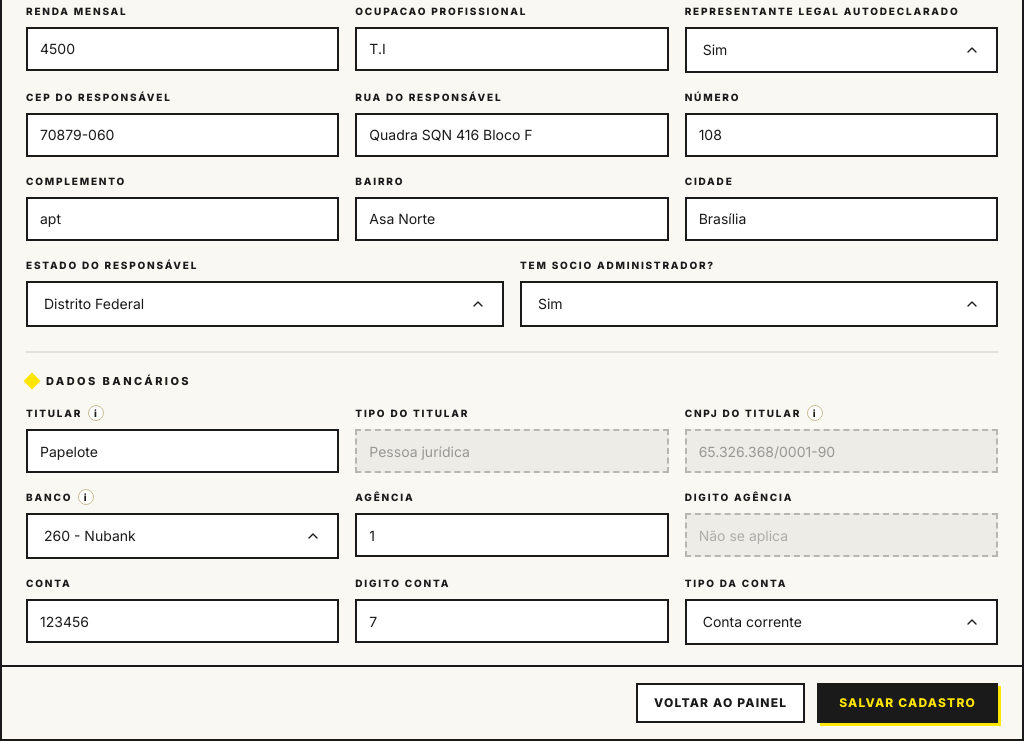
Test: VendorPendingRegistrationModalHost — salvamento › trava os dois botões enquanto grava e recarrega a casca antes de navegar
(page scrolled)
Click the button "Salvar cadastro" at (908, 703), box top-left (817, 683), bottom-right (998, 723)
(page scrolled)
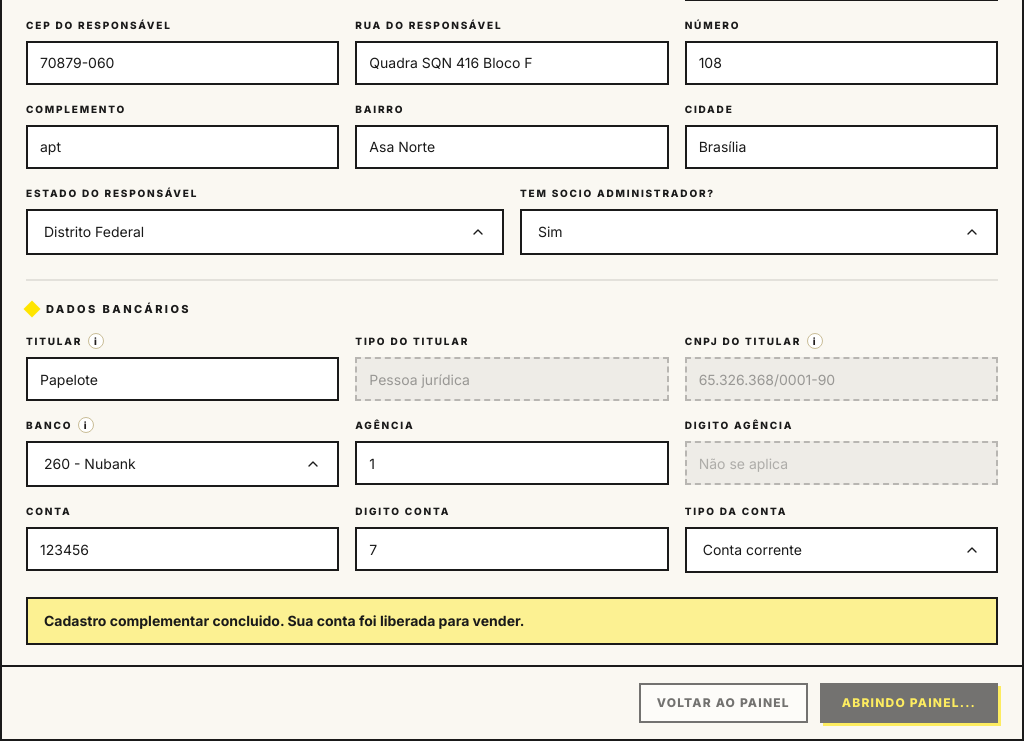
Check: the button named "Salvando..." is disabled, box top-left (820, 683), bottom-right (998, 723)
Check: the button "Voltar ao painel" is disabled, box top-left (639, 683), bottom-right (808, 723)
